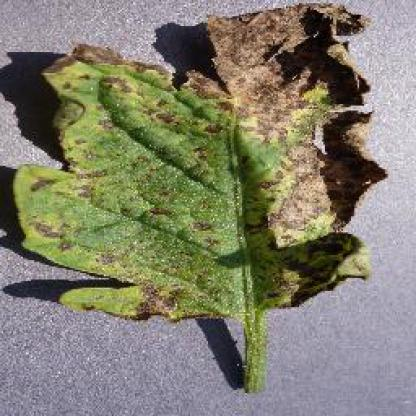bad leaf: (1, 0, 392, 397)
